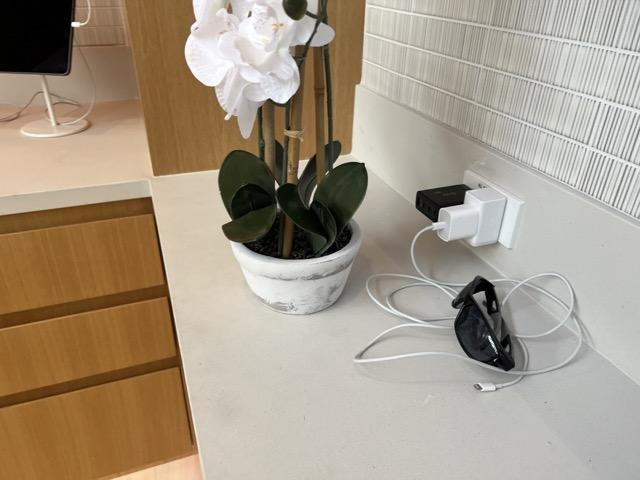Sunglasses: (451, 272, 516, 373)
